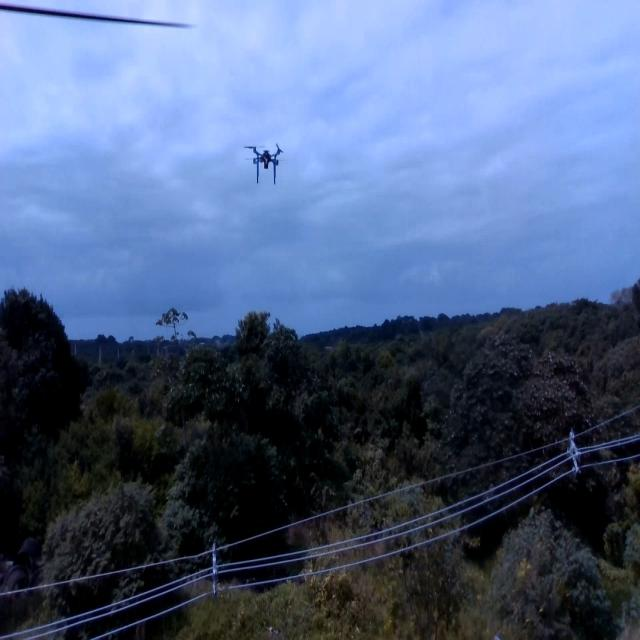-uav-: (240, 130, 290, 190)
